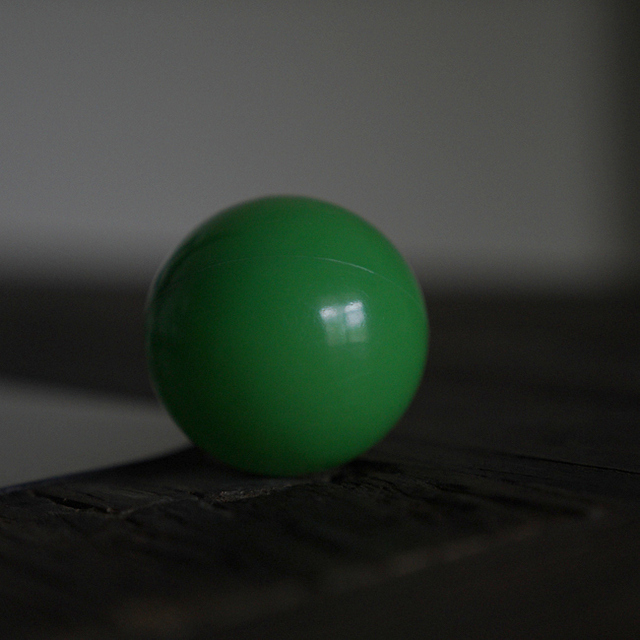Ball: (138, 197, 432, 479)
